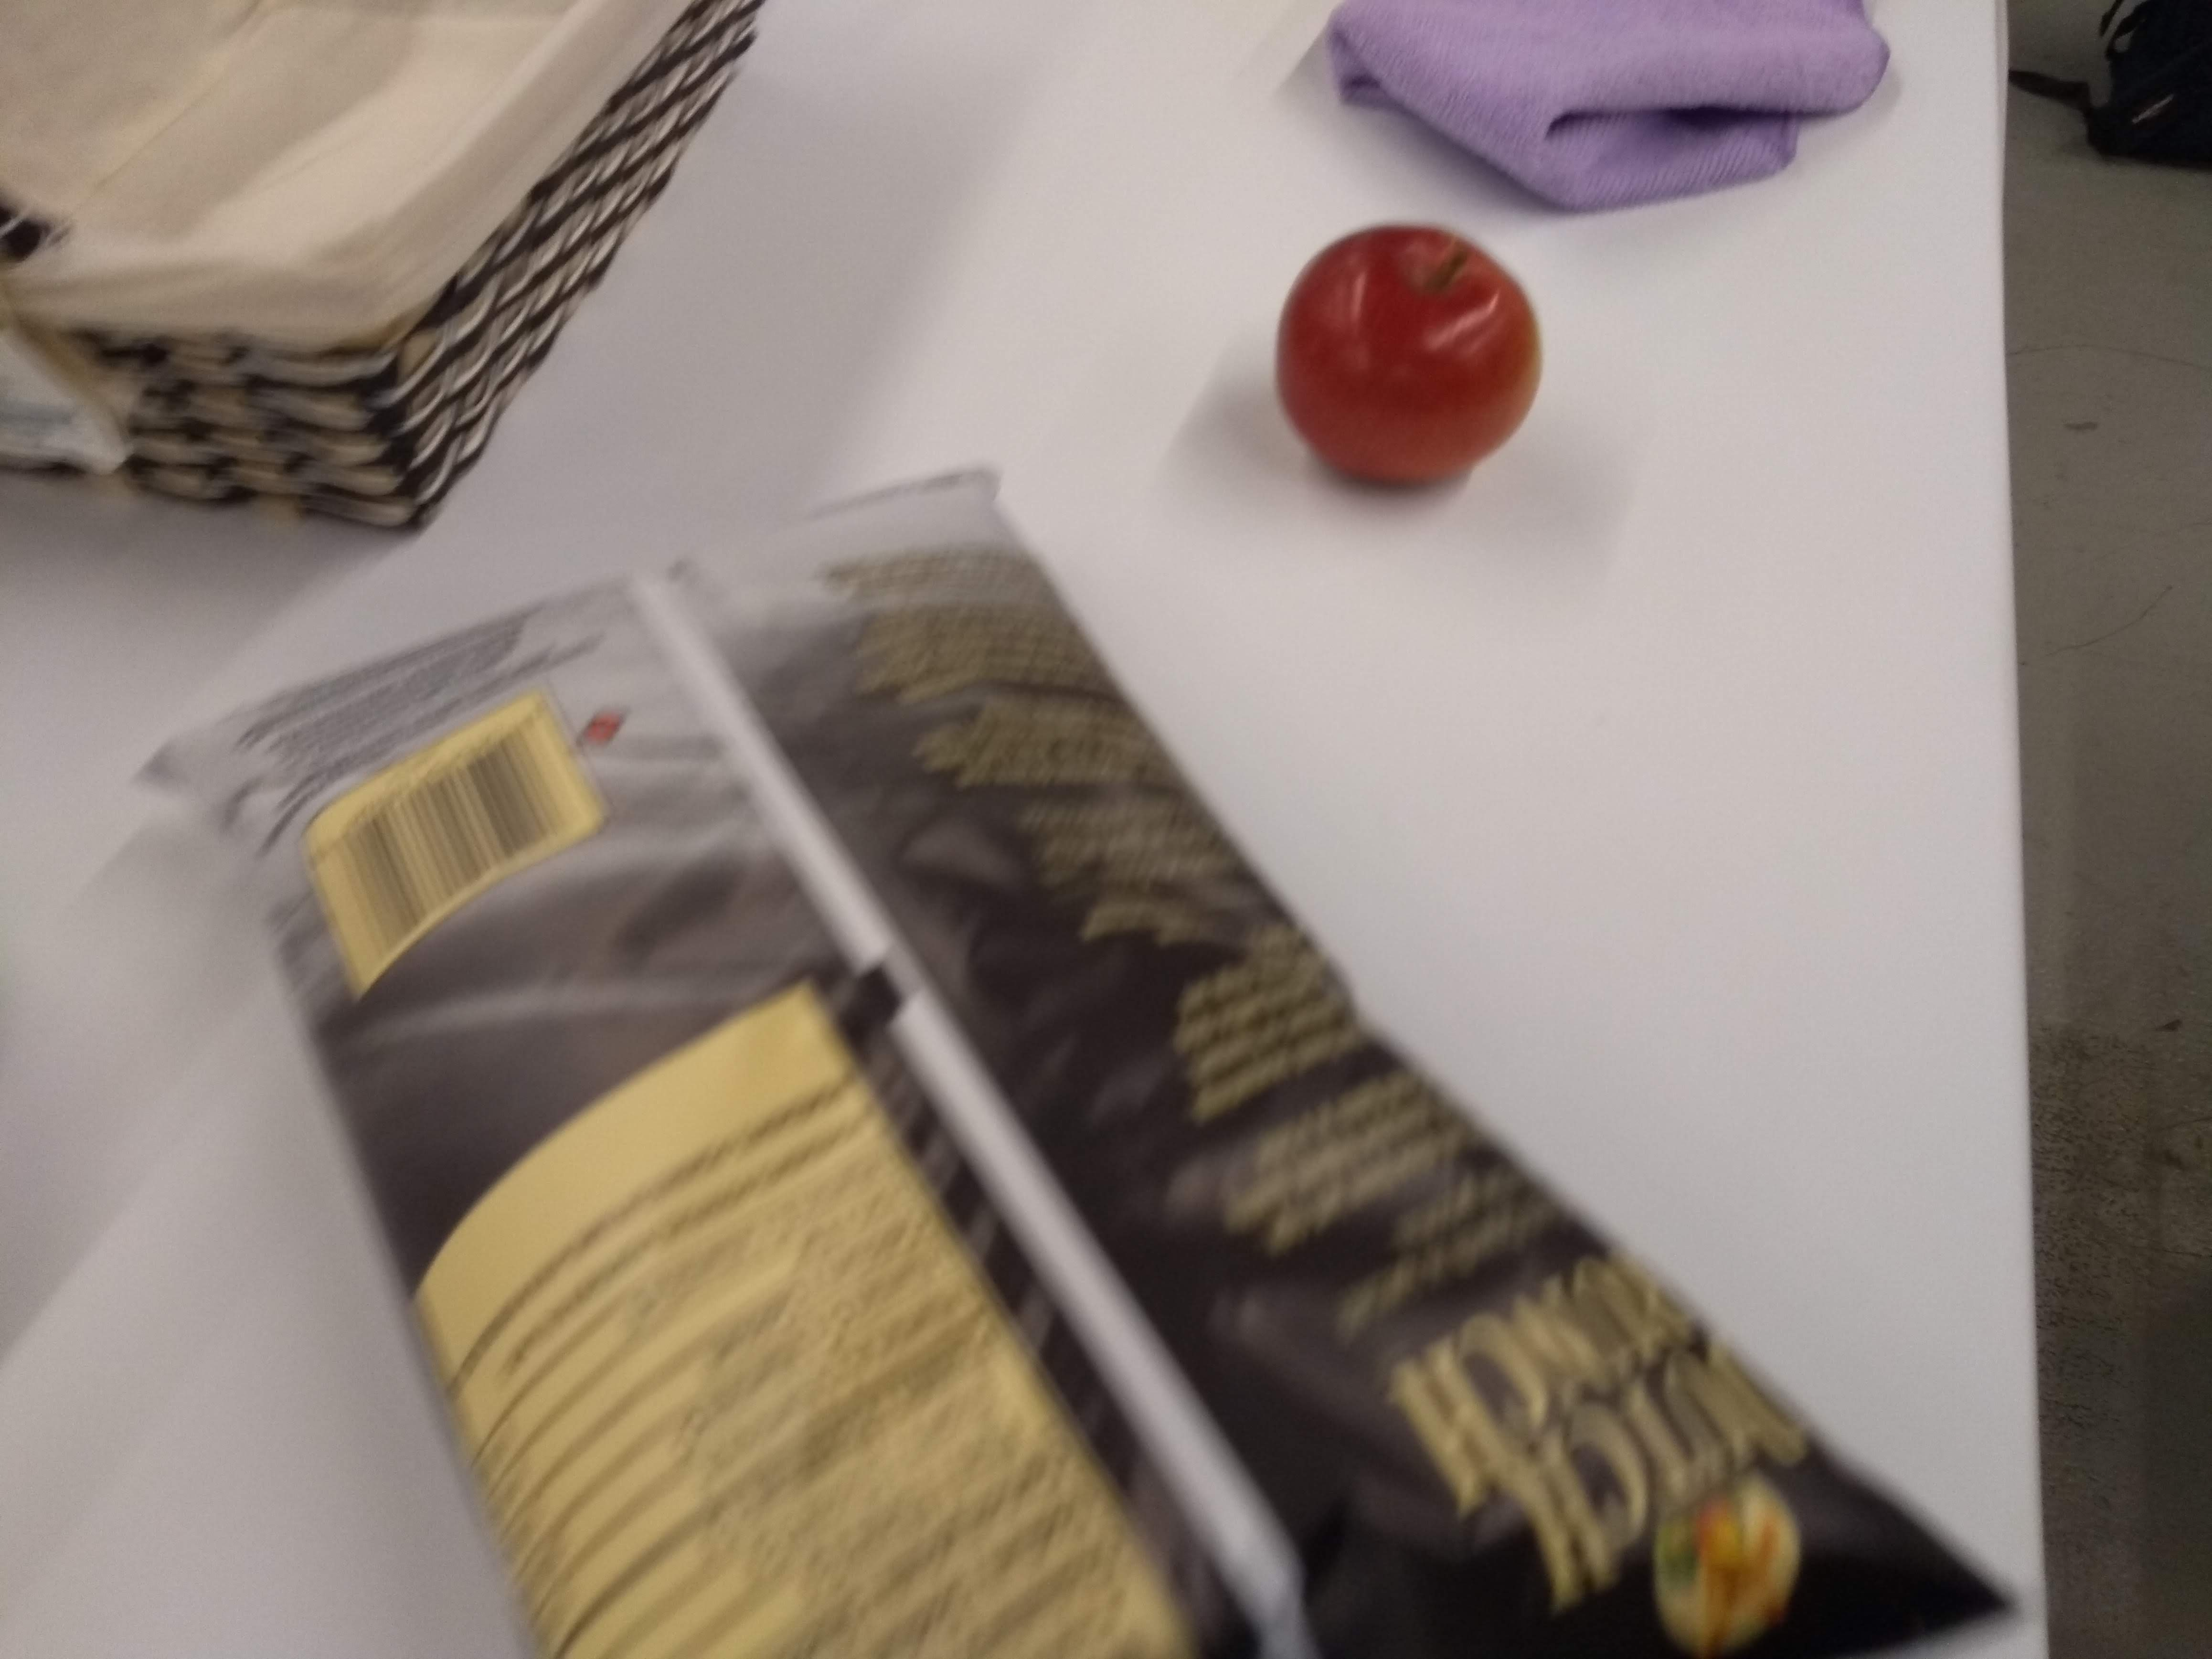apple: (1263, 214, 1555, 514)
